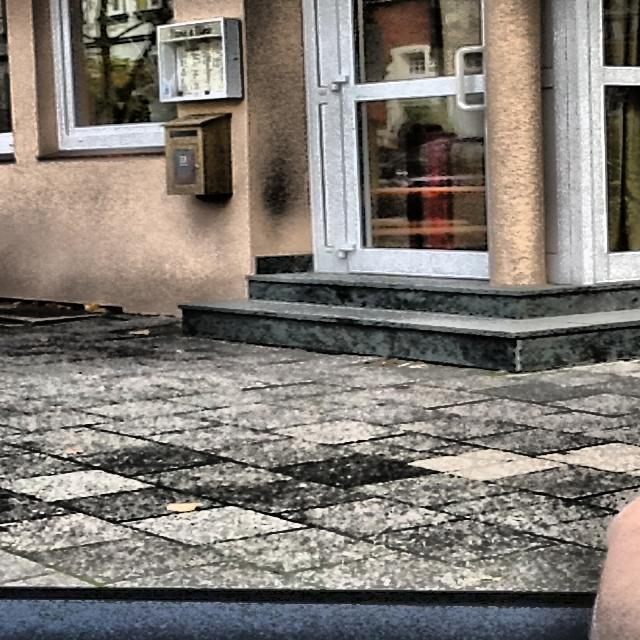escada: (176, 264, 640, 371)
